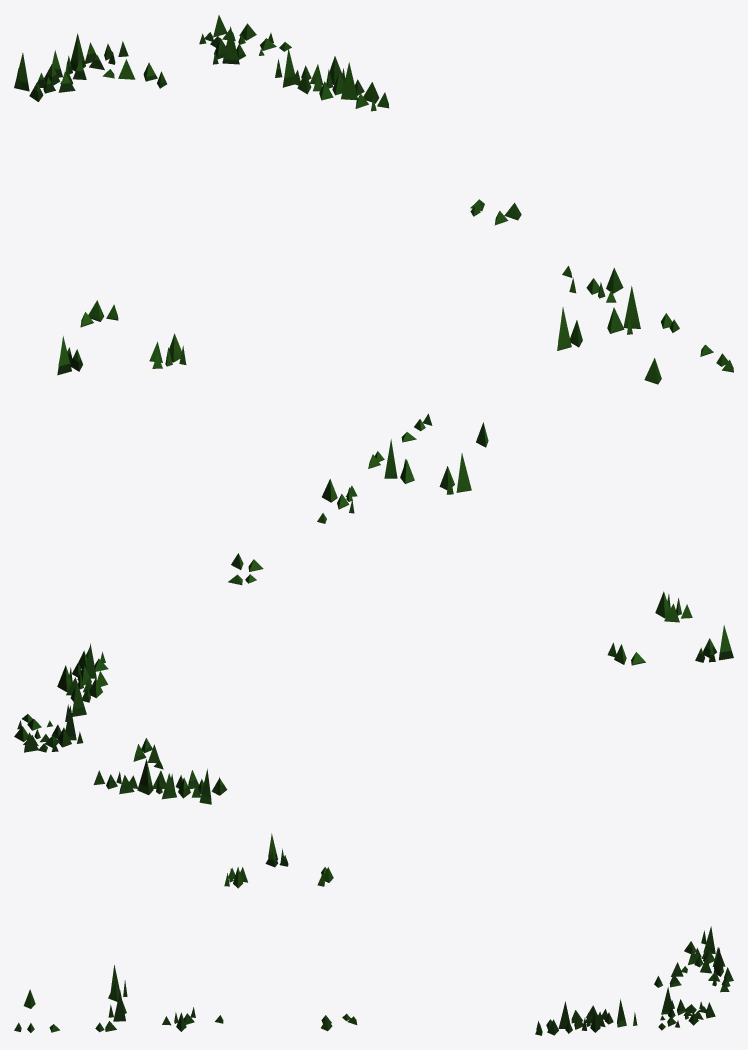
Rendered from Plant_01.FBX.
3 views of the same model, one above another, from view 1: azimuth 30°, elevation 25°; view 2: azimuth 150°, elevation 25°; view 3: azimuth 270°, elevation 25° (orthographic). The views are drawn at different scales.
Parts seen in each view (by area): view 1: Plant_01; view 2: Plant_01; view 3: Plant_01.
Part boxes in pixels (box(x1,y1,x2,y2)): Plant_01: box(14, 15, 733, 384); Plant_01: box(14, 413, 733, 804); Plant_01: box(14, 833, 733, 1035).
Size of the model in its own units: 13.72 by 1.23 by 22.55.
